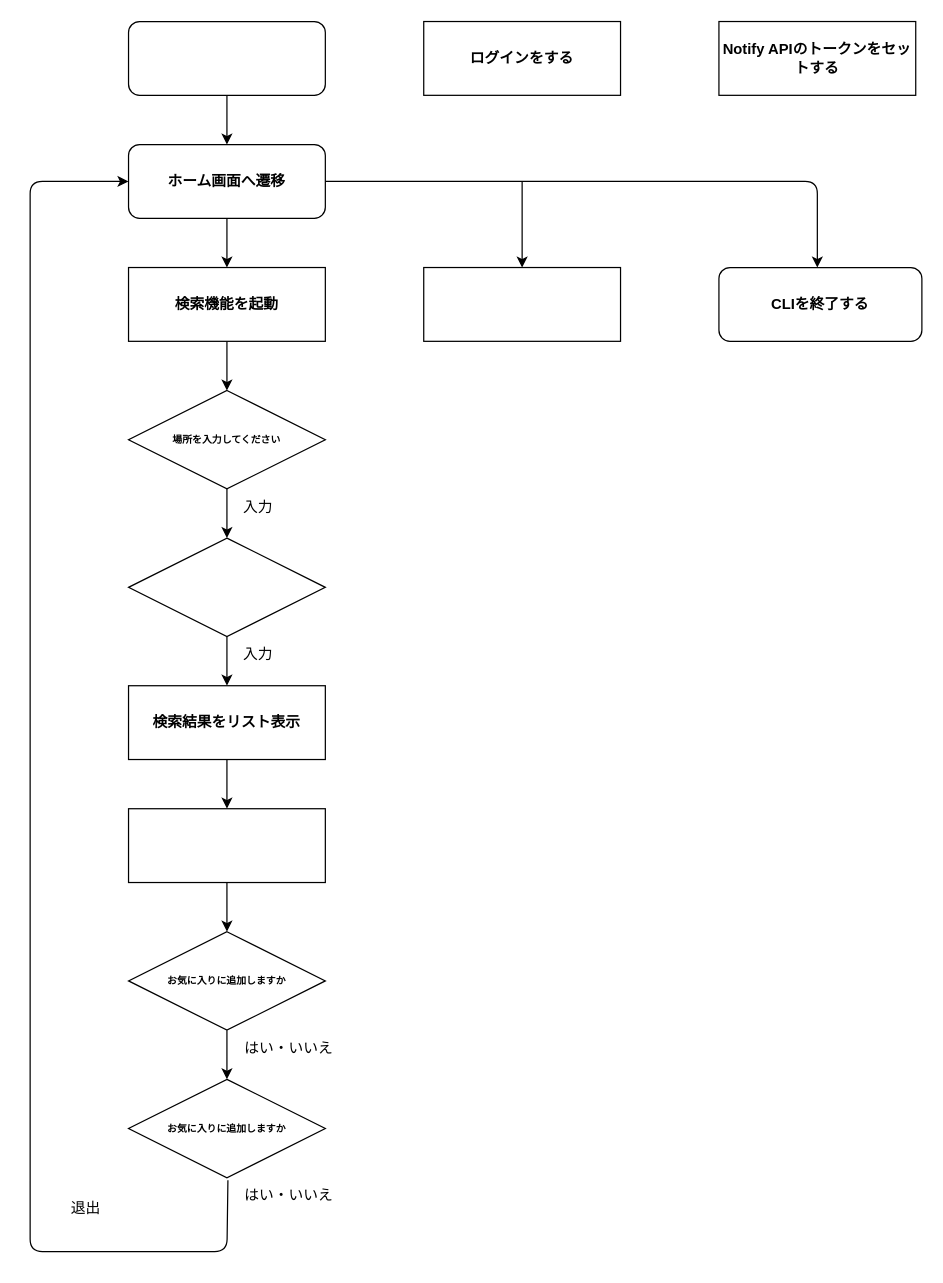
The diagram is 943 pixels wide and 1283 high, and some of its shapes have lost their labels. The centre of each missing label's shape, as x and y in pixels:
CLIを起動する: point (226, 57)
お気に入り機能を起動: point (522, 303)
ジャンルを選択してください: point (226, 587)
候補店舗を選択: point (226, 845)
